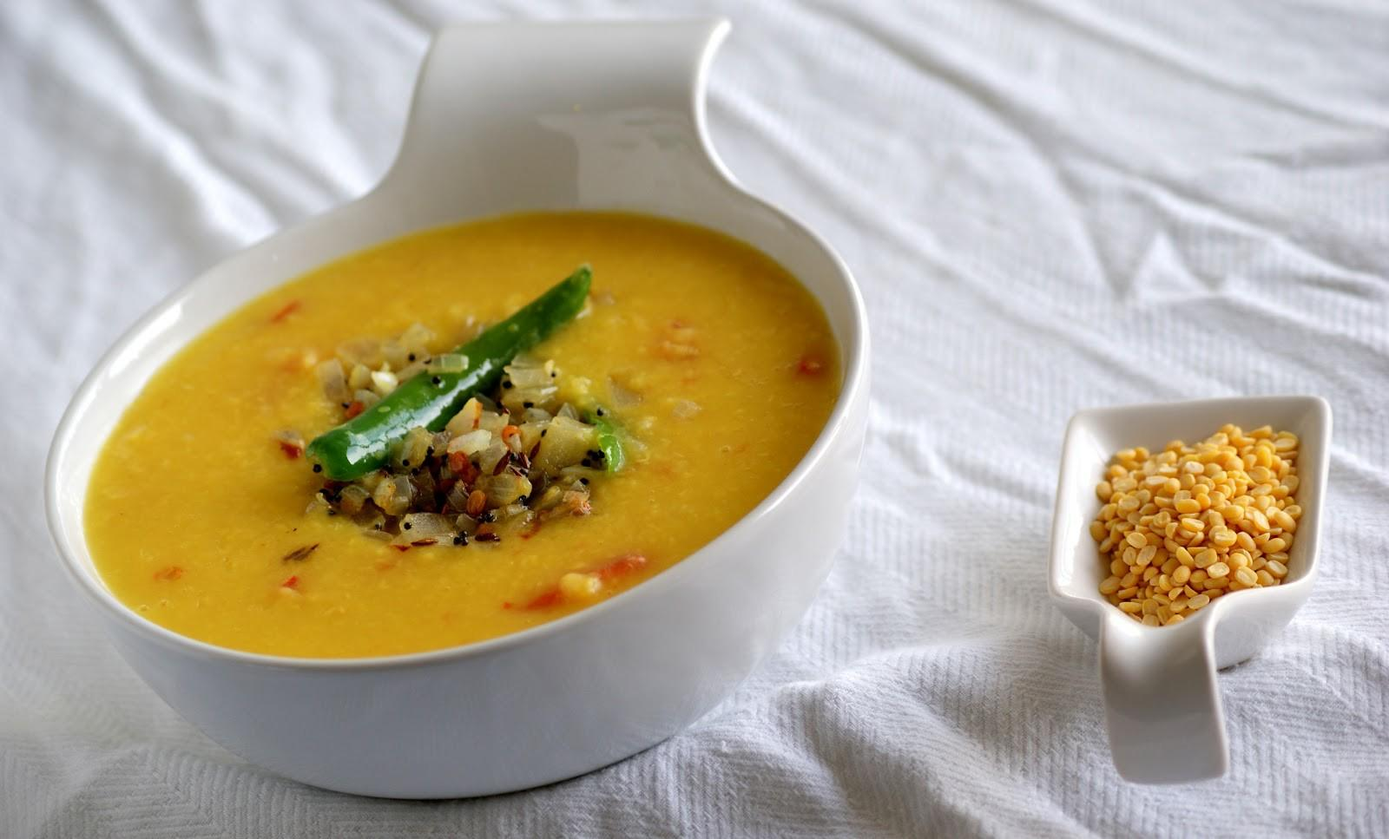Dal: (82, 210, 834, 658)
